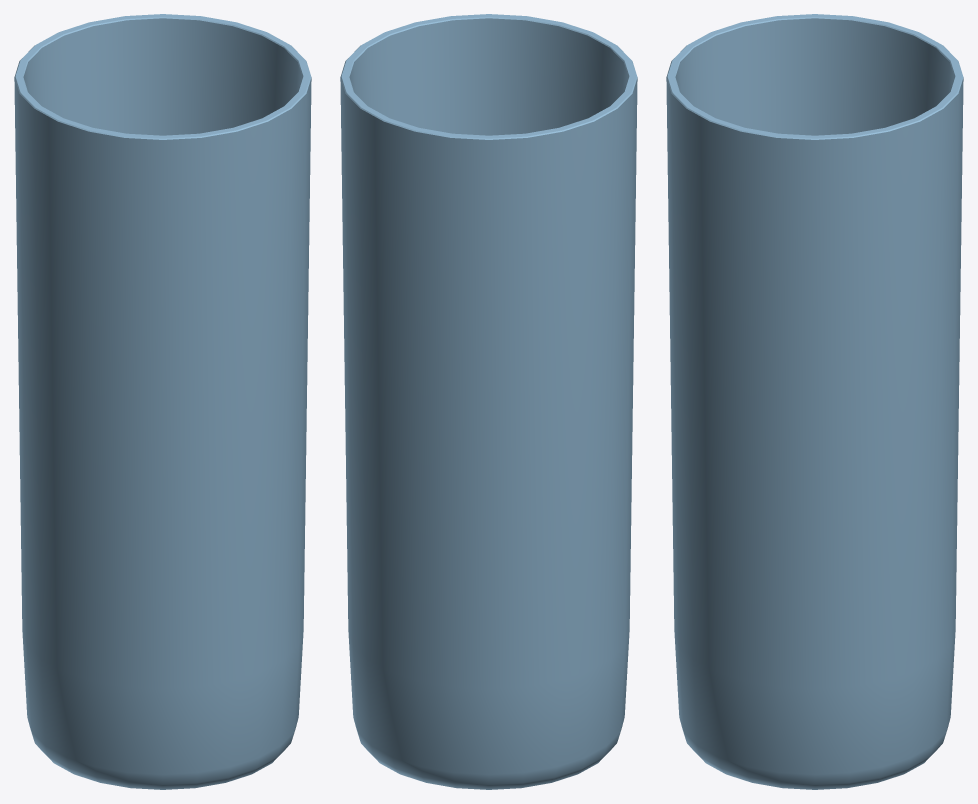
File: stakan_02_.FBX
3 renders of one model, left to right at view 1: azimuth 30°, elevation 25°; view 2: azimuth 150°, elevation 25°; view 3: azimuth 270°, elevation 25°, orthographic.
Visible parts, largest first — view 1: stakan_02_; view 2: stakan_02_; view 3: stakan_02_.
Boxes of the visible parts, left/top/right/bottom form: stakan_02_: left=14, top=14, right=311, bottom=789; stakan_02_: left=340, top=14, right=637, bottom=789; stakan_02_: left=666, top=14, right=963, bottom=789.
Bounding box in the file's own units: 61.05 × 150 × 61.05.
